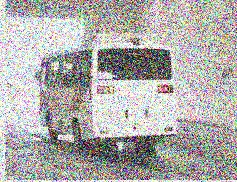bus: (37, 33, 177, 154)
